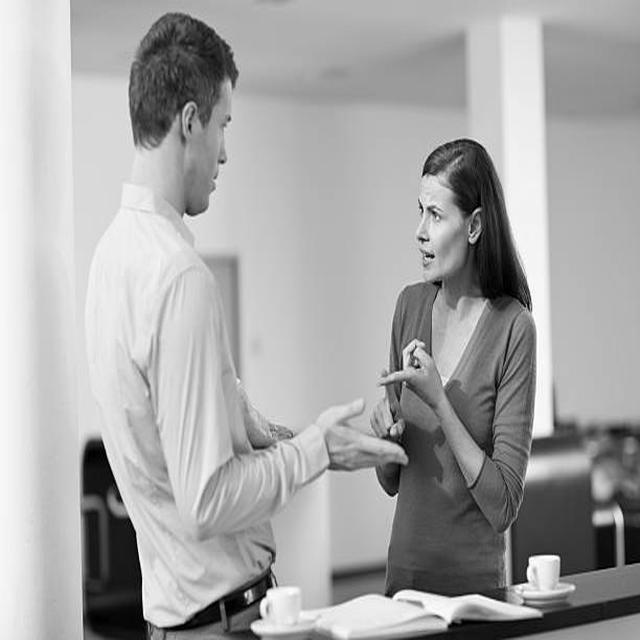Angry: (416, 176, 469, 282)
